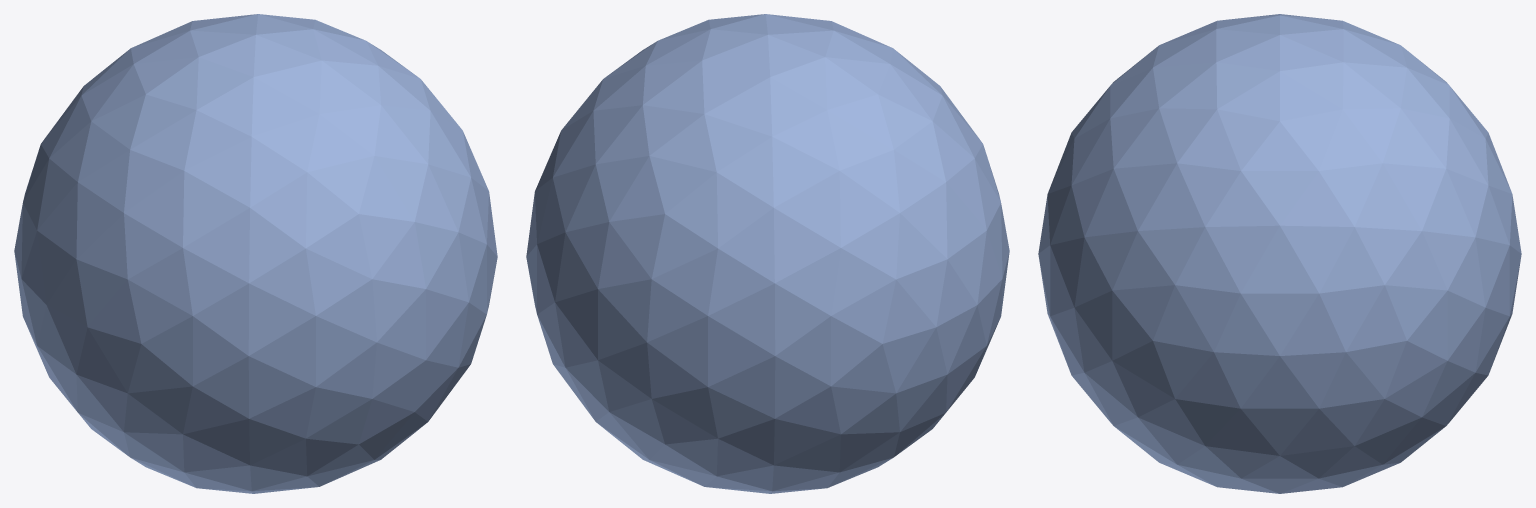
The picture shows the model from 3 angles, left to right: view 1: azimuth 30°, elevation 25°; view 2: azimuth 150°, elevation 25°; view 3: azimuth 270°, elevation 25°; orthographic projection.
Visible parts, largest first — view 1: world; view 2: world; view 3: world.
Boxes of the visible parts, x1,y1,x2,y2 form: world: (14,14,497,493); world: (526,14,1009,493); world: (1038,14,1521,493).
Size of the model in its own units: 2 by 2 by 2.
